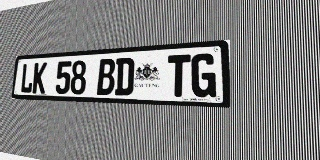5: (55, 61, 72, 94)
8: (70, 60, 87, 95)
B: (97, 58, 116, 95)
D: (114, 57, 135, 96)
G: (191, 53, 216, 98)
K: (32, 62, 47, 94)
L: (20, 63, 34, 93)
T: (167, 54, 191, 97)
